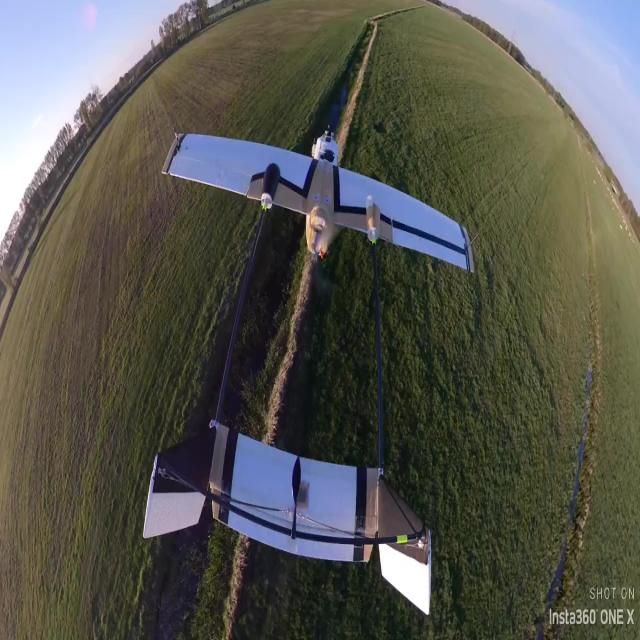iha: (139, 125, 476, 620)
